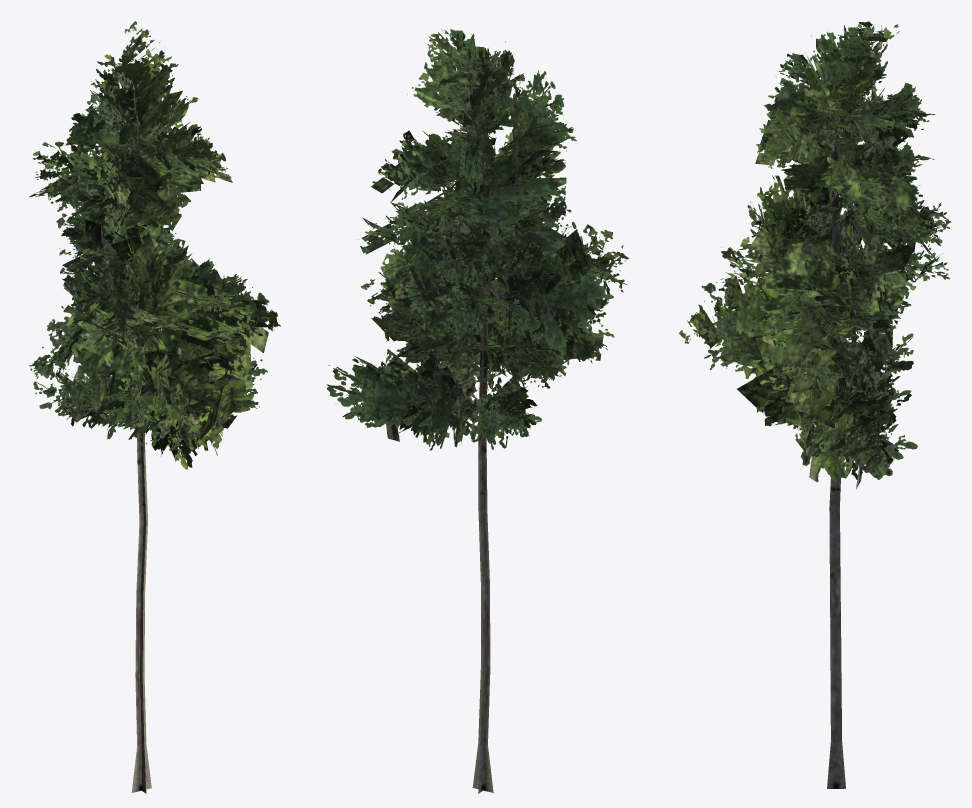
3 renders of one model, left to right at view 1: azimuth 30°, elevation 25°; view 2: azimuth 150°, elevation 25°; view 3: azimuth 270°, elevation 25°, orthographic. The views are drawn at different scales.
Visible parts, largest first — view 1: El_high2; view 2: El_high2; view 3: El_high2.
Boxes of the visible parts, bbox=[...] form: El_high2: bbox=[29, 21, 280, 793]; El_high2: bbox=[326, 29, 629, 793]; El_high2: bbox=[679, 21, 951, 788].
Bounding box in the file's own units: 955 × 2540 × 842.
